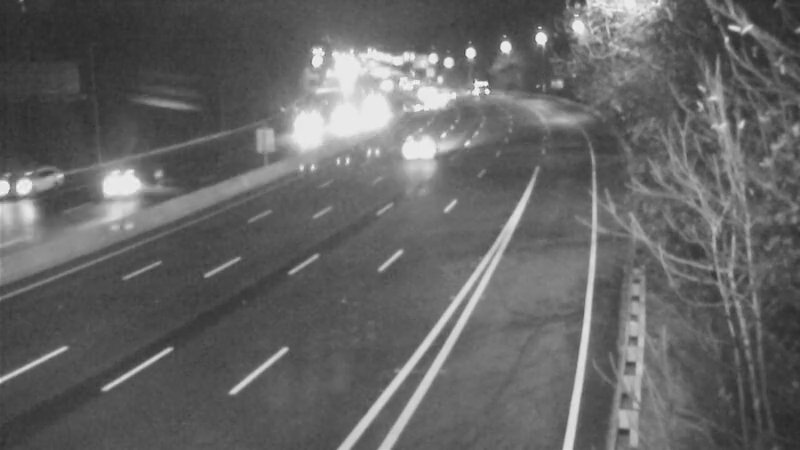vehicle: (84, 142, 164, 222), (1, 144, 72, 224), (455, 63, 505, 113), (398, 68, 448, 118), (424, 68, 474, 118), (404, 71, 454, 121), (393, 84, 443, 134), (400, 125, 450, 175), (285, 97, 335, 147), (315, 90, 365, 140), (351, 77, 401, 127)
